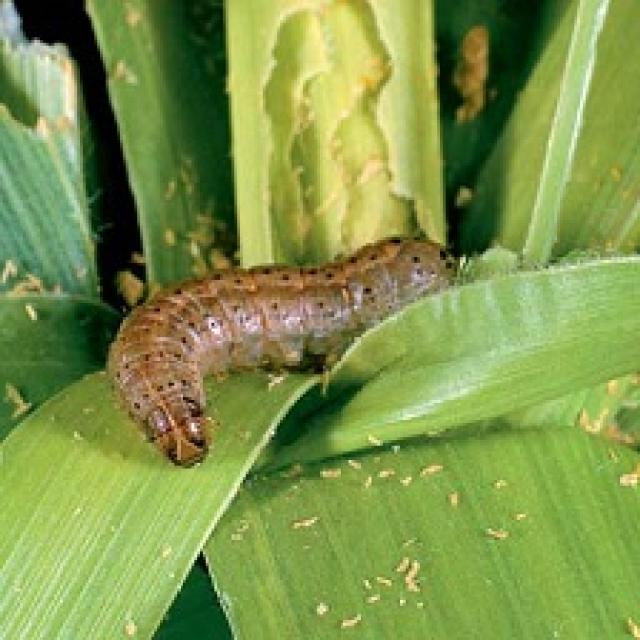worm: (104, 233, 458, 470)
